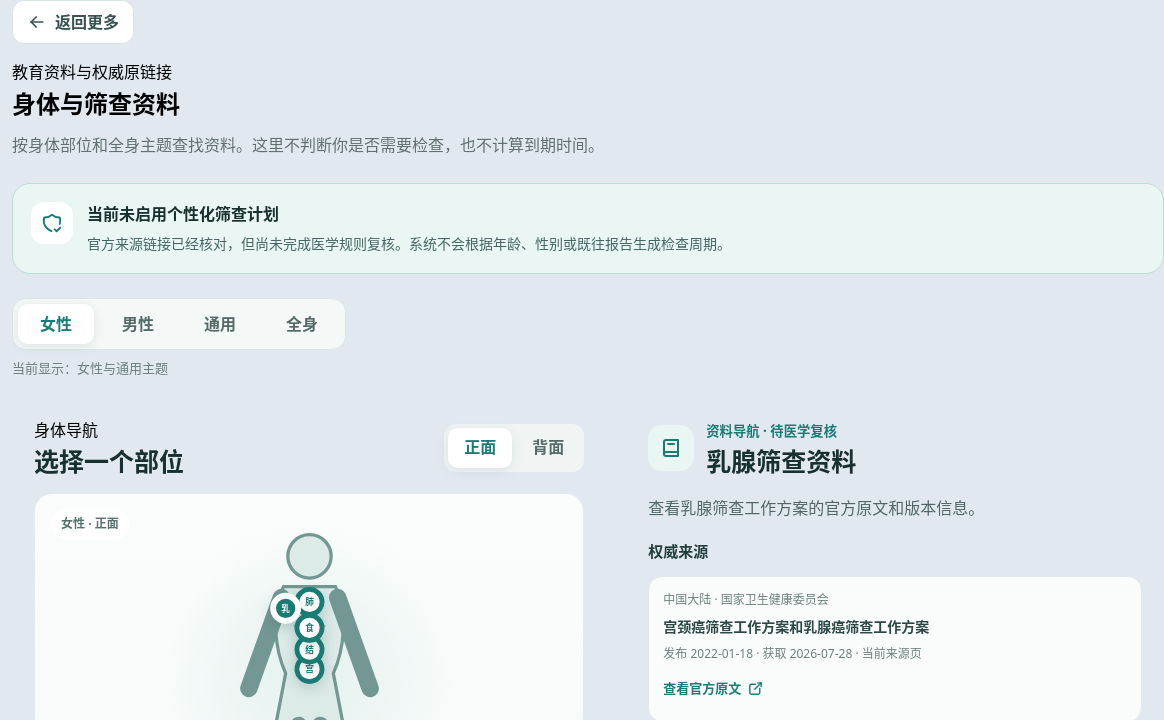
Test: ScreeningKnowledgePage › switches female, male, shared and systemic topic lists without inferring eligibility
Step 1. Click the button "男性" → (138, 324), box x1=100 y1=304 x2=176 y2=344
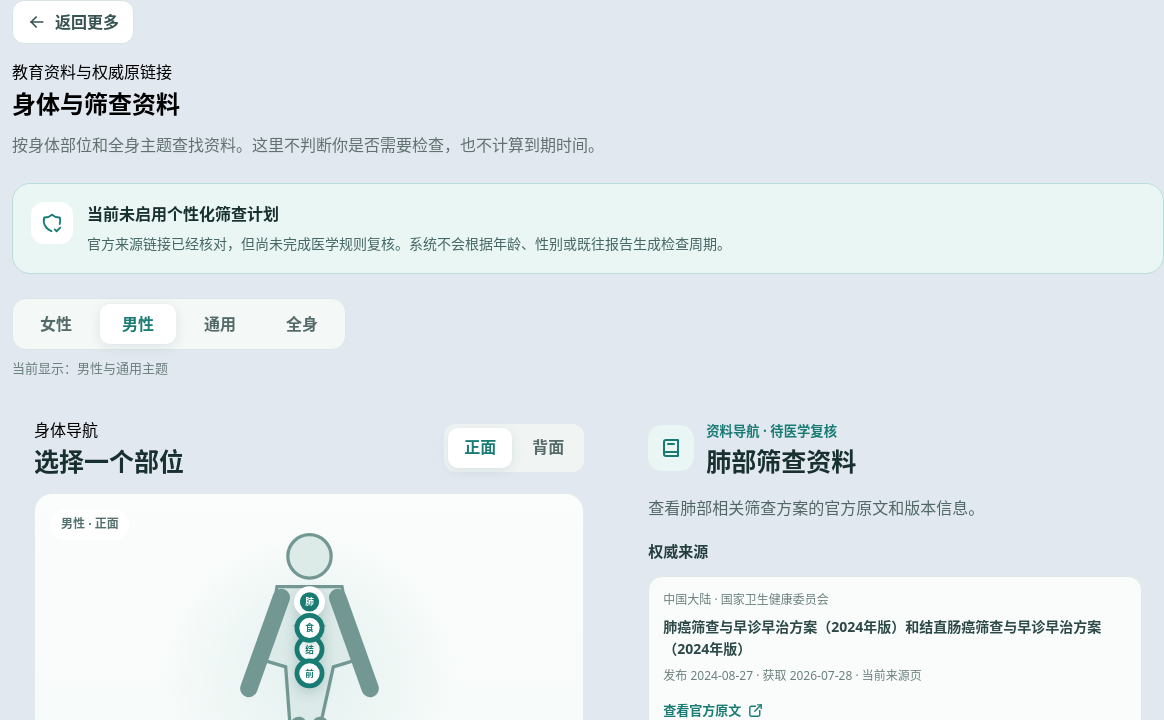
Step 2. Click the button "全身" → (302, 324), box x1=264 y1=304 x2=340 y2=344
(page scrolled)
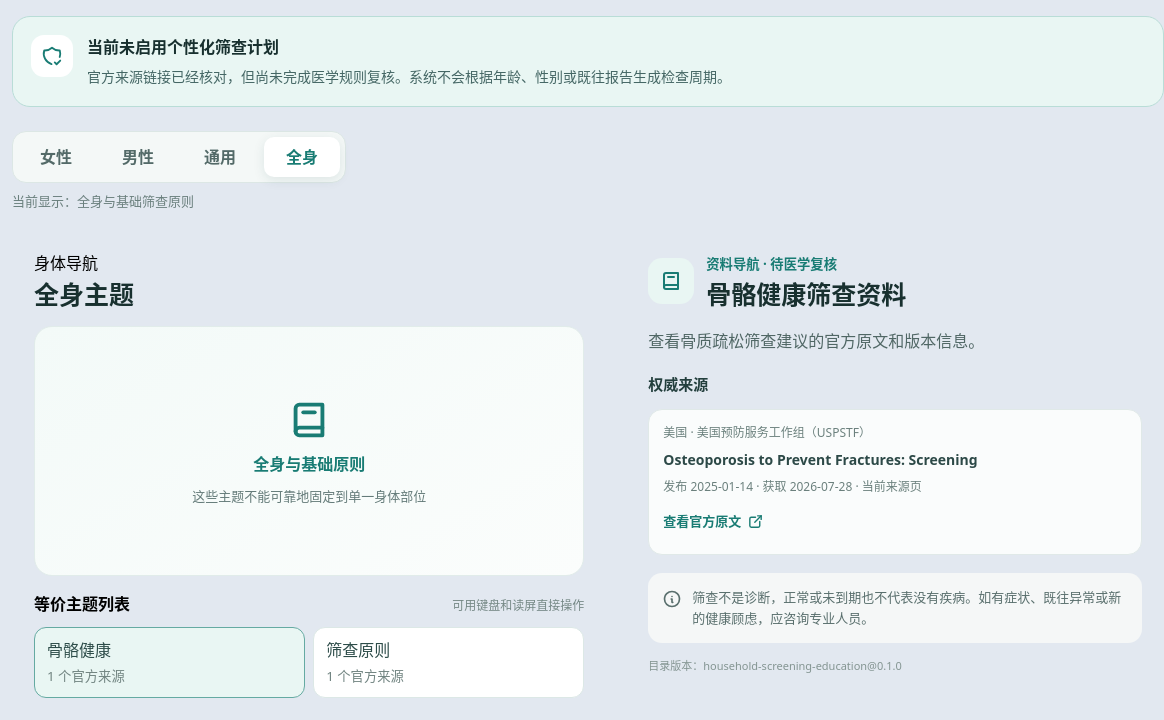
Check: the button with aria-label "打开主题：骨骼健康筛查资料" is shown, box x1=34 y1=627 x2=305 y2=698
